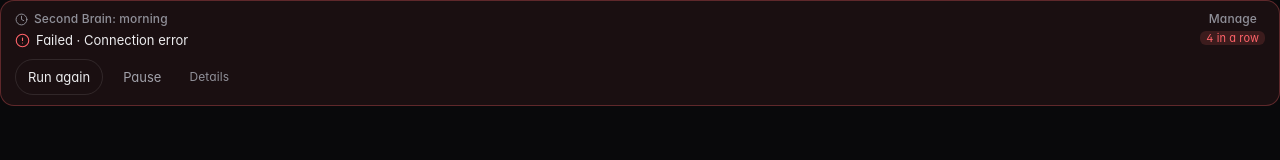
it: a failed routine is a card with the error, the streak, Run again and Pause
Expected: the text "Second Brain: morning" is shown, left=34, top=11, right=168, bottom=26
Expected: the text "Failed · Connection error" is shown, left=36, top=32, right=188, bottom=48
Click the button "Details" at (209, 77), box left=182, top=65, right=237, bottom=89
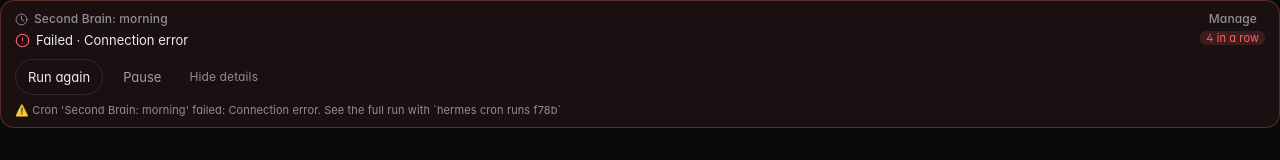
Result: the text "hermes cron runs f78b" is shown at left=15, top=103, right=561, bottom=117
Click the button "Run again" at (59, 77), box left=15, top=59, right=103, bottom=95
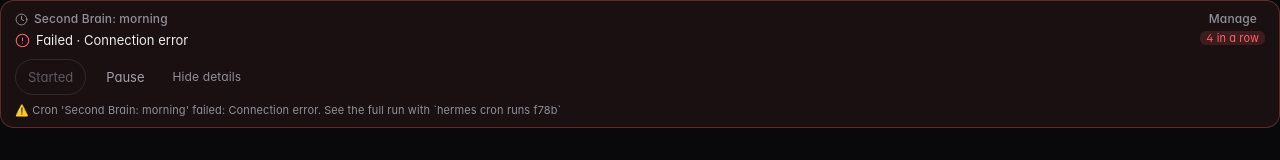
Result: the button "Started" is shown at left=15, top=59, right=86, bottom=95
Click the button "Pause" at (125, 77), box left=94, top=59, right=156, bottom=95
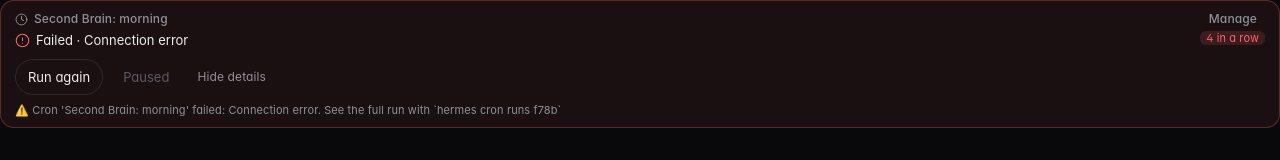
Result: the button "Paused" is shown at left=111, top=59, right=181, bottom=95
